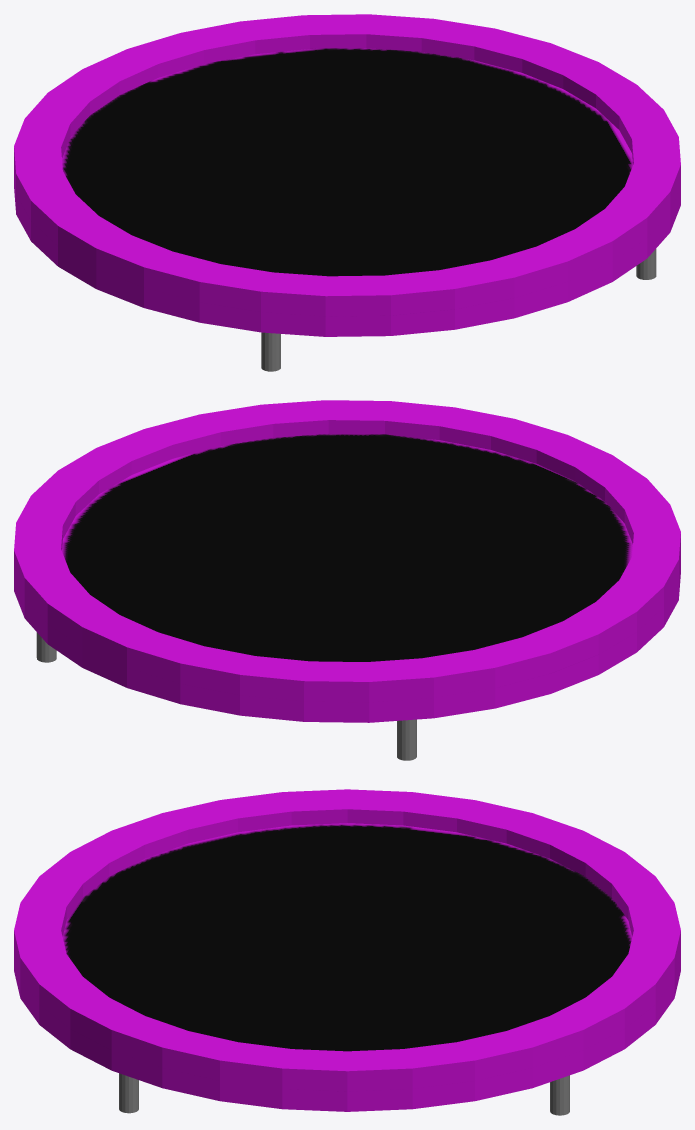
The model's file is trampoline.fbx.
The picture shows the model from 3 angles, top to bottom: view 1: azimuth 30°, elevation 25°; view 2: azimuth 150°, elevation 25°; view 3: azimuth 270°, elevation 25°; orthographic projection.
Visible parts, largest first — view 1: TrampolineBase, TrampolineLeg2; view 2: TrampolineBase, TrampolineLeg1; view 3: TrampolineBase, TrampolineLeg4, TrampolineLeg3.
Boxes of the visible parts, box(x1,y1,x2,y2) form: TrampolineBase: box(14, 14, 680, 336); TrampolineLeg2: box(261, 332, 280, 371); TrampolineBase: box(14, 400, 680, 722); TrampolineLeg1: box(397, 719, 416, 760); TrampolineBase: box(14, 789, 680, 1111); TrampolineLeg4: box(550, 1075, 569, 1115); TrampolineLeg3: box(119, 1073, 138, 1113).
Size of the model in its own units: 265 by 37.95 by 265.
